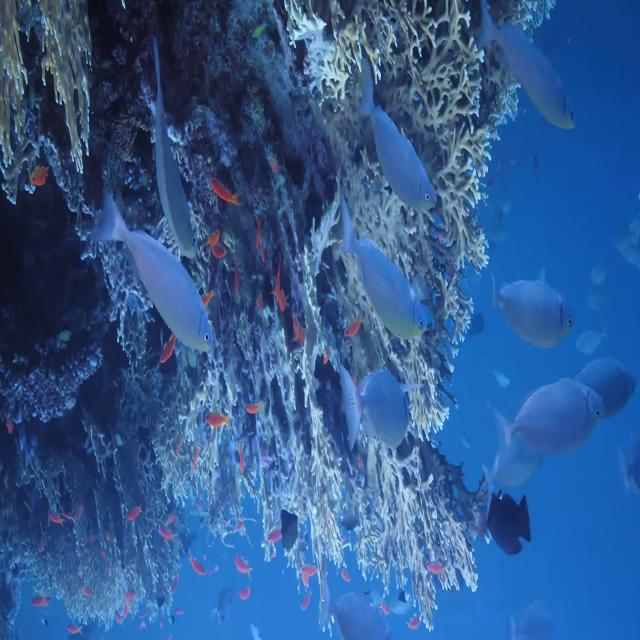fish: (96, 192, 214, 348), (336, 189, 428, 337), (479, 0, 576, 130), (360, 56, 440, 212), (150, 49, 198, 255), (490, 382, 604, 459), (491, 259, 576, 347), (341, 372, 413, 456), (486, 410, 544, 514), (484, 492, 532, 554)
